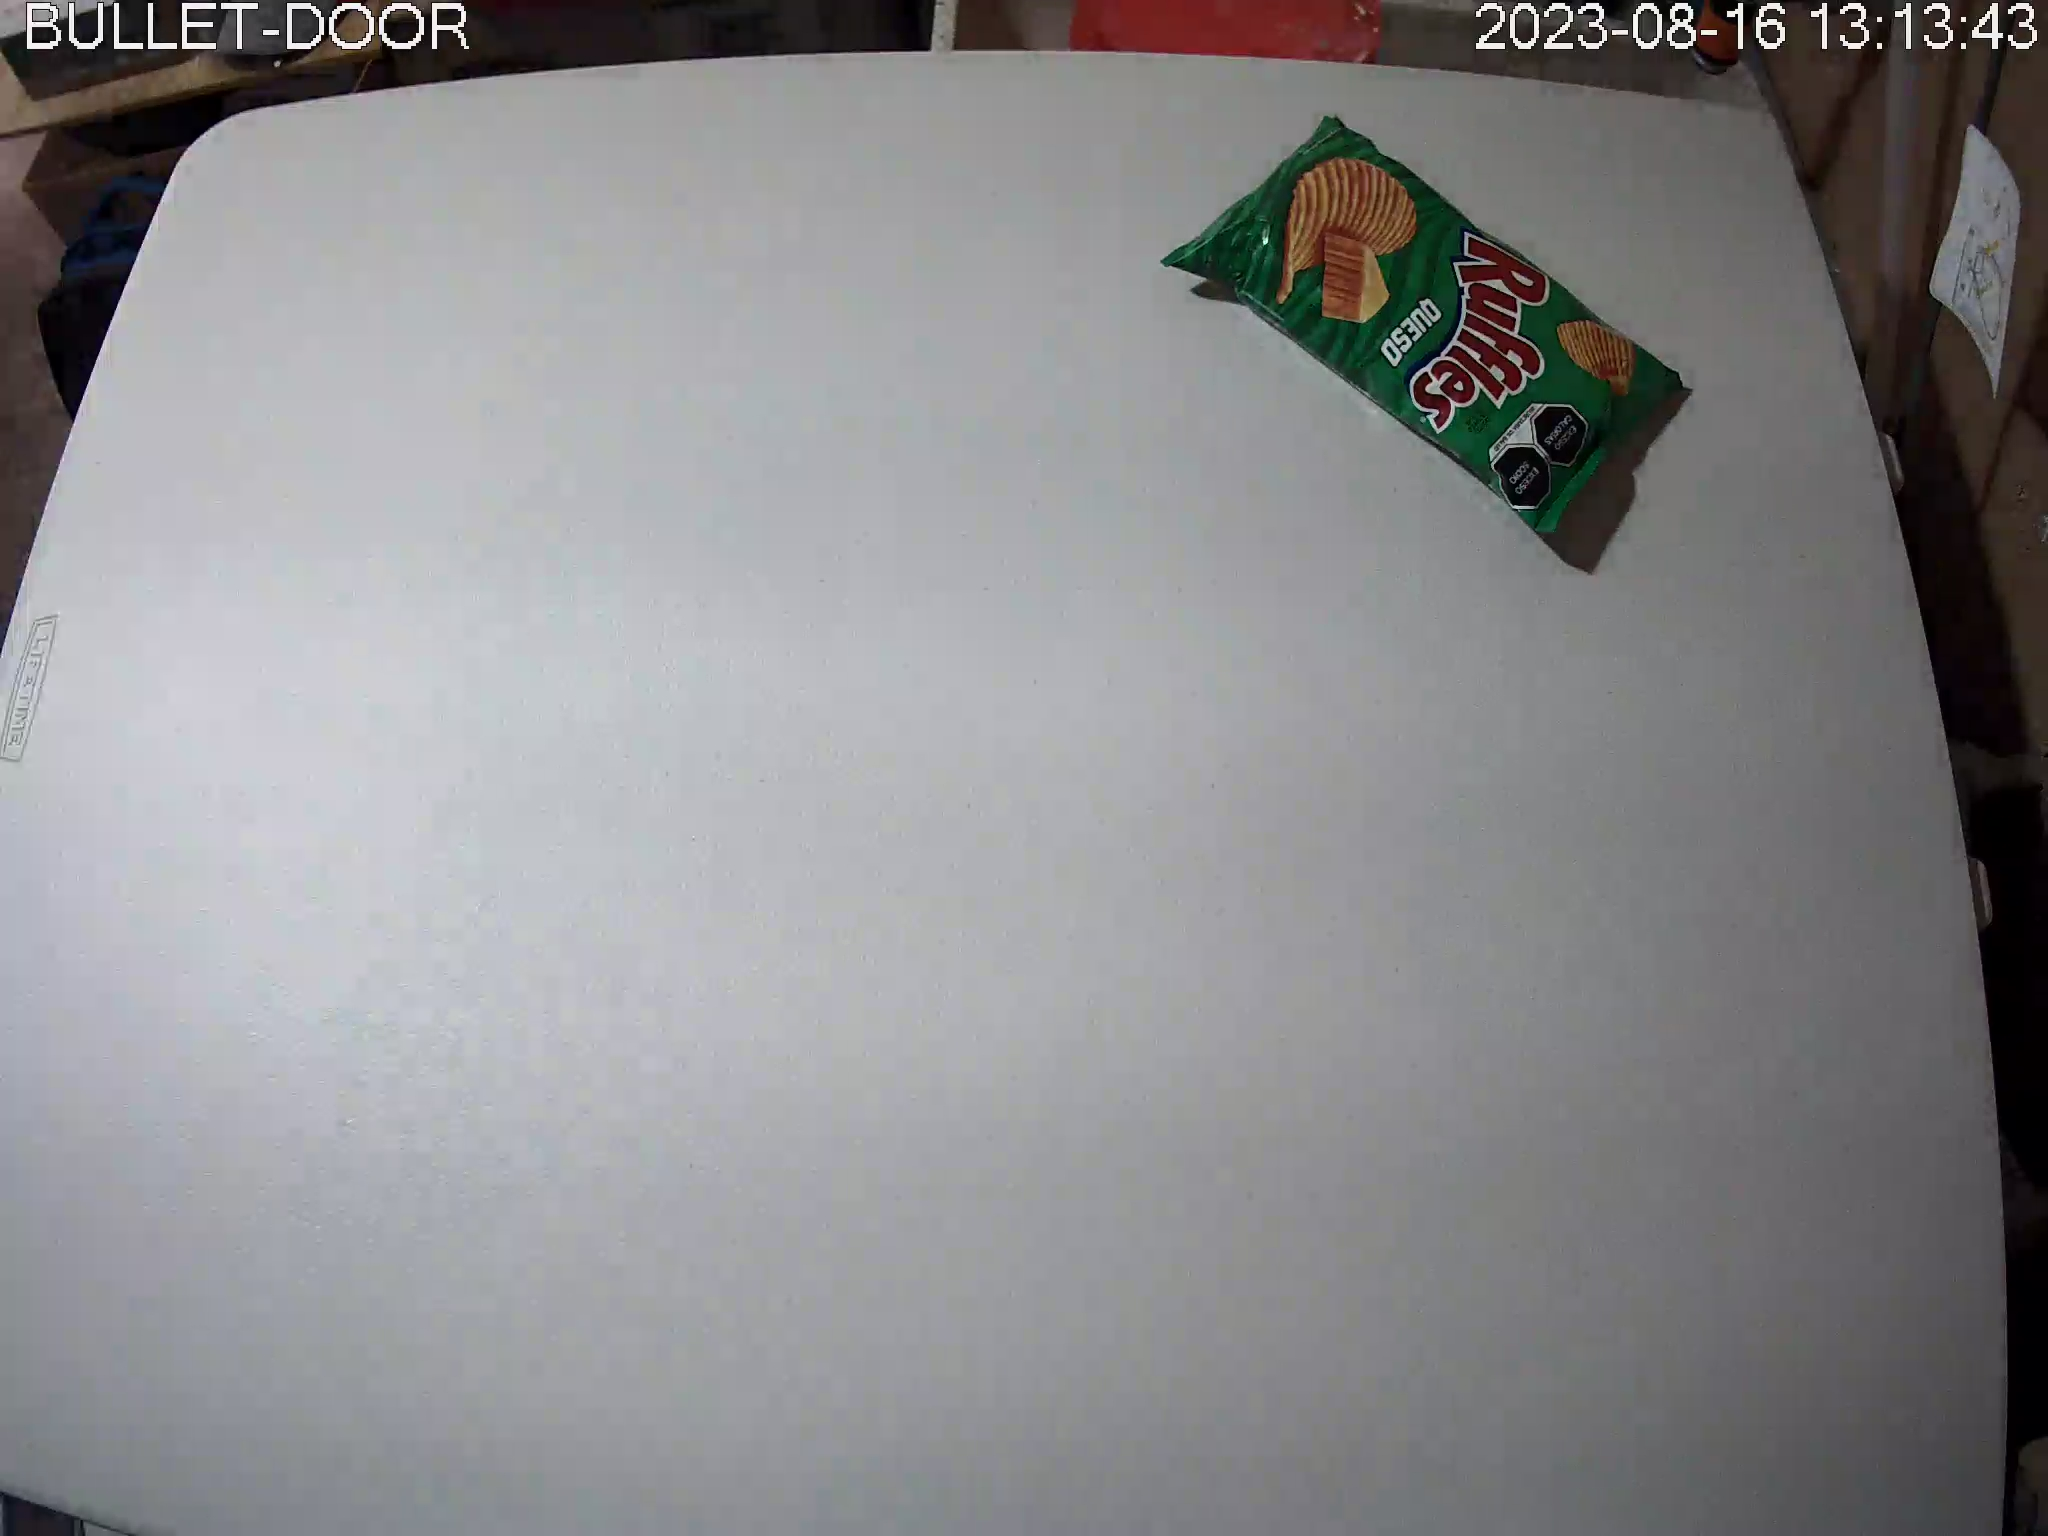RufflesQ_48_F: (1161, 116, 1680, 537)
